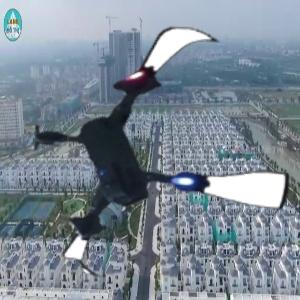drone: (18, 9, 295, 286)
